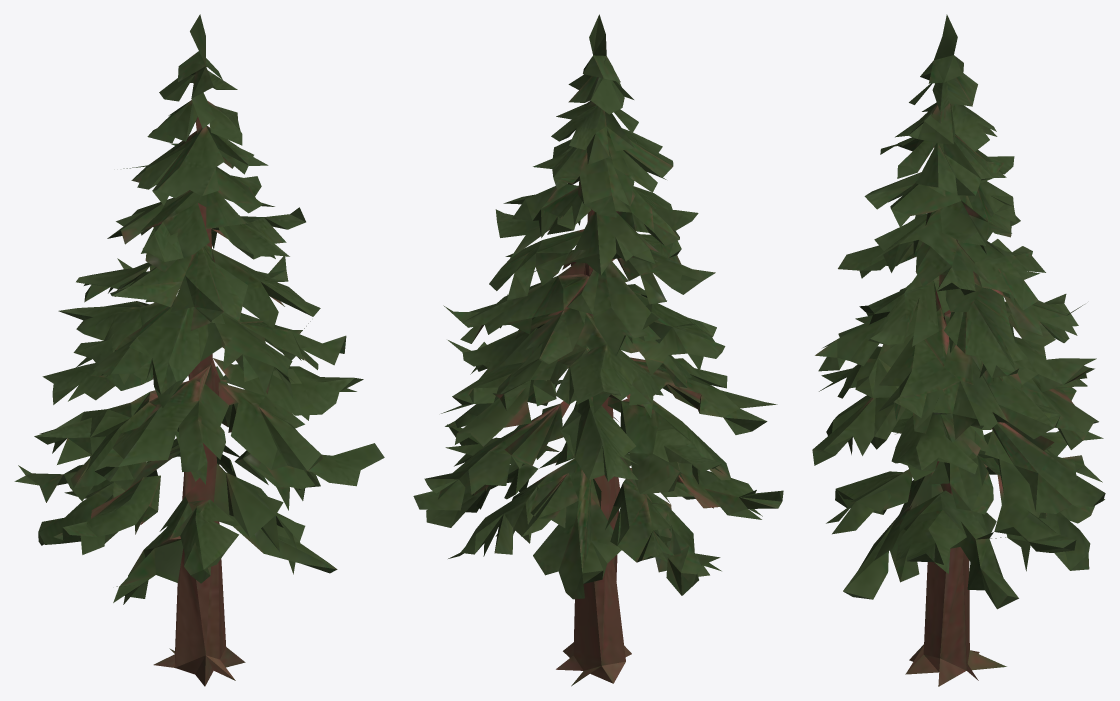
File: pine.glb
3 views of the same model, side by side, from view 1: azimuth 30°, elevation 25°; view 2: azimuth 150°, elevation 25°; view 3: azimuth 270°, elevation 25° (orthographic).
Size of the model in its own units: 0.9947 by 1.9 by 0.7724.
Materials: 1 (1 with a texture image).
